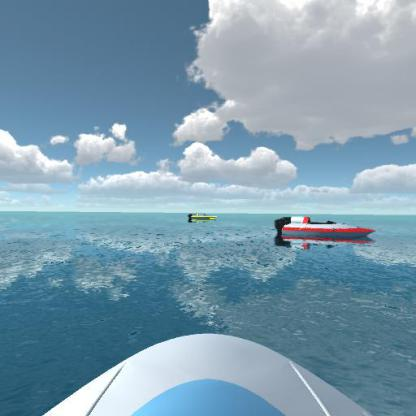usv2: (185, 210, 223, 224)
usv3: (272, 212, 379, 246)
